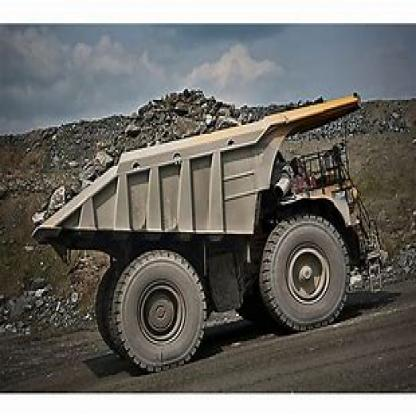dump_truck: (29, 78, 366, 367)
